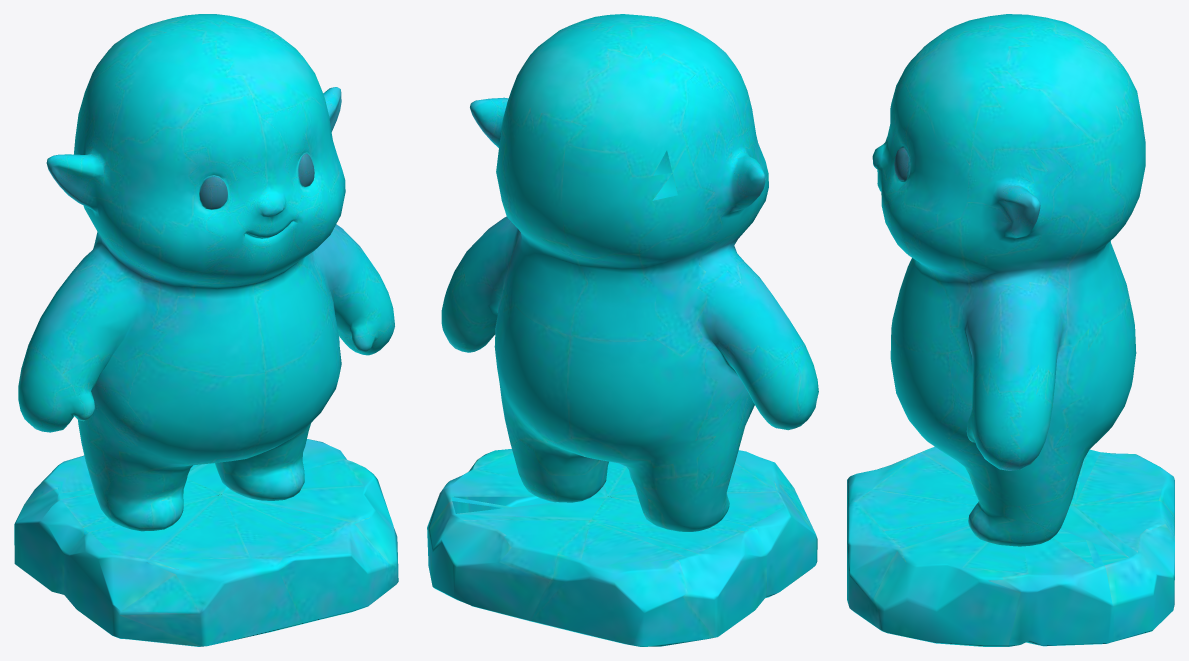
Rendered from item01_cyan_ice_statue.glb.
3 views of the same model, side by side, from view 1: azimuth 30°, elevation 25°; view 2: azimuth 150°, elevation 25°; view 3: azimuth 270°, elevation 25° (orthographic).
Parts seen in each view (by area): view 1: geometry_0; view 2: geometry_0; view 3: geometry_0.
Boxes of the visible parts, x1=… form: geometry_0: x1=14, y1=14, x2=398, y2=646; geometry_0: x1=427, y1=14, x2=818, y2=646; geometry_0: x1=847, y1=14, x2=1174, y2=646.
Size of the model in its own units: 0.6763 by 0.9507 by 0.522.
1 material, 1 textured.
